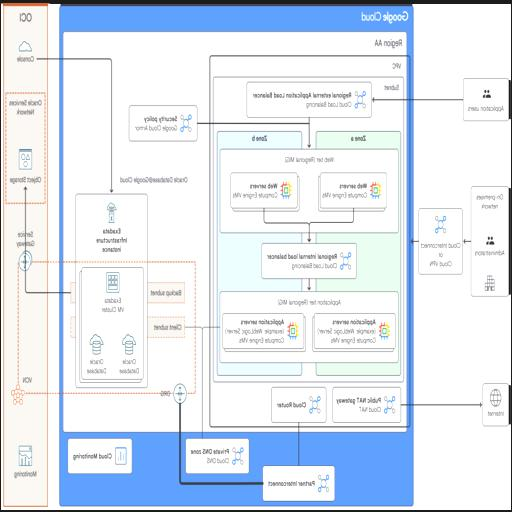actor: (471, 195, 509, 285), (464, 80, 508, 116), (482, 386, 508, 420), (13, 38, 39, 64)
compute: (80, 266, 144, 378), (312, 316, 396, 348), (224, 316, 308, 348), (230, 174, 300, 206), (318, 174, 386, 206)
data_flow: (110, 54, 114, 192), (179, 358, 182, 480), (264, 212, 354, 216), (266, 283, 352, 287), (180, 478, 264, 482), (270, 125, 348, 129), (417, 401, 482, 405), (24, 164, 28, 225), (26, 260, 76, 264), (418, 96, 464, 100), (26, 57, 52, 61), (307, 213, 310, 246), (264, 290, 268, 310), (213, 324, 233, 328), (350, 198, 354, 214), (346, 143, 349, 163), (351, 290, 354, 310), (298, 404, 300, 434), (464, 238, 478, 242), (308, 102, 310, 128), (270, 143, 272, 163), (198, 116, 208, 120), (264, 198, 266, 214), (308, 270, 310, 285), (416, 238, 422, 242)
database_storage: (74, 179, 150, 384), (8, 142, 44, 186)
network_security: (248, 82, 372, 114), (262, 246, 356, 278), (264, 465, 334, 496), (332, 388, 402, 418), (132, 103, 198, 134), (186, 439, 250, 470), (68, 439, 132, 470), (274, 388, 324, 418), (418, 224, 464, 256)
trust_boundary: (58, 8, 415, 504), (210, 62, 408, 454), (214, 83, 404, 447), (218, 104, 400, 440), (2, 8, 50, 504), (316, 134, 400, 374), (218, 134, 302, 374), (222, 148, 396, 224), (222, 282, 396, 358), (6, 215, 46, 430), (6, 92, 46, 205)
